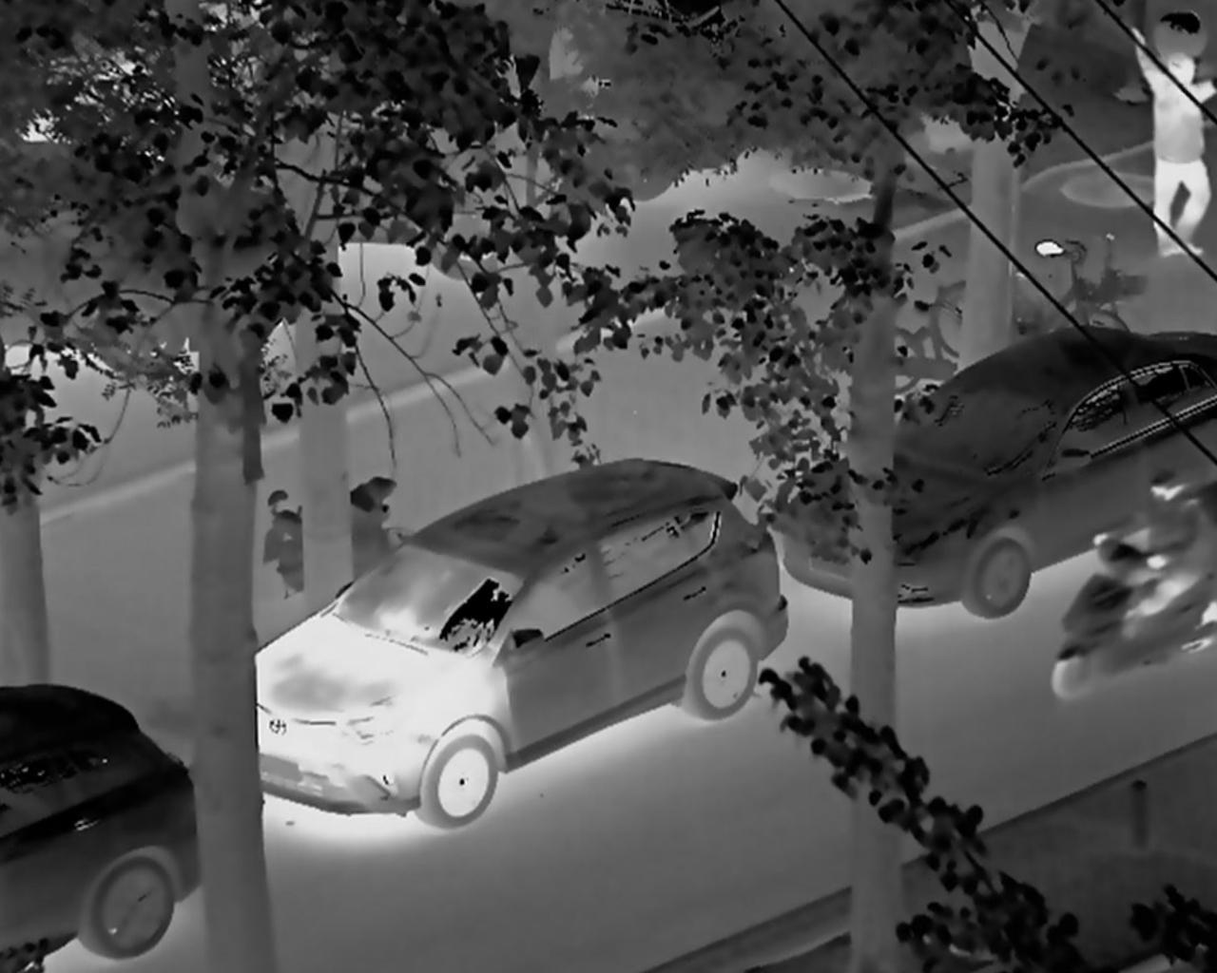person: (1127, 29, 1213, 254), (1128, 474, 1215, 631)
